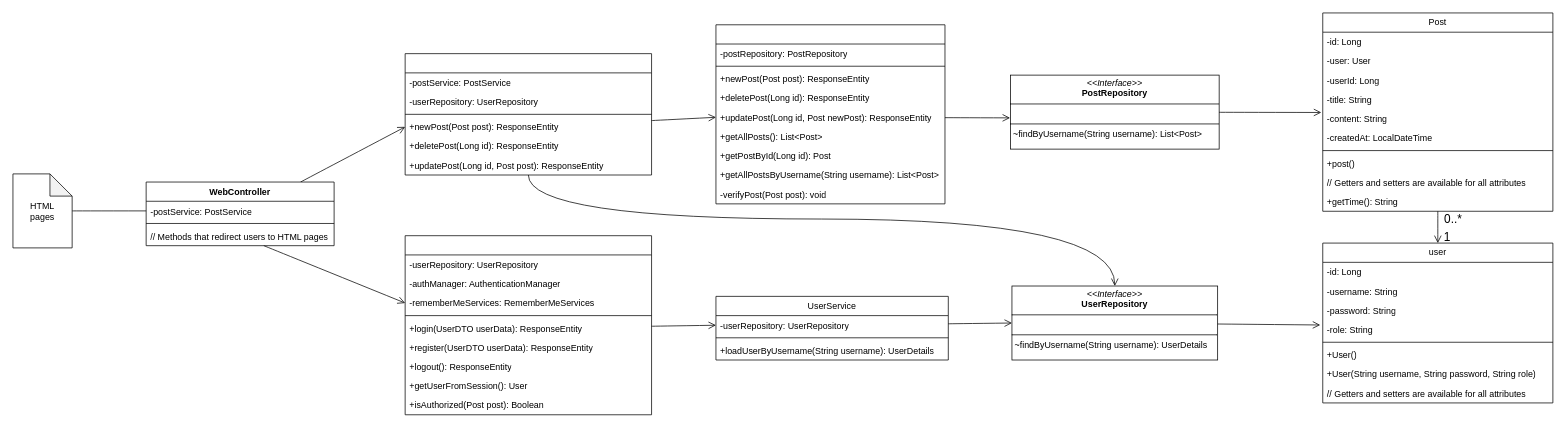
Image size: 1566x430. Some labels were removed from this diagram. The shapes that lost their labels are listed below. From the top down, each one's box as (x1, y1, x2, y2) in pixels, then its label:
(404, 53, 652, 175): Post Controller
(715, 24, 945, 204): PostService
(404, 235, 652, 415): UserController
